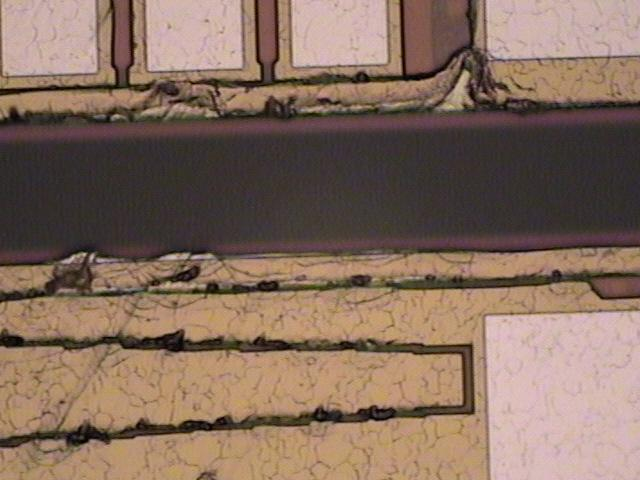SCRATCH: (1, 54, 584, 477)
